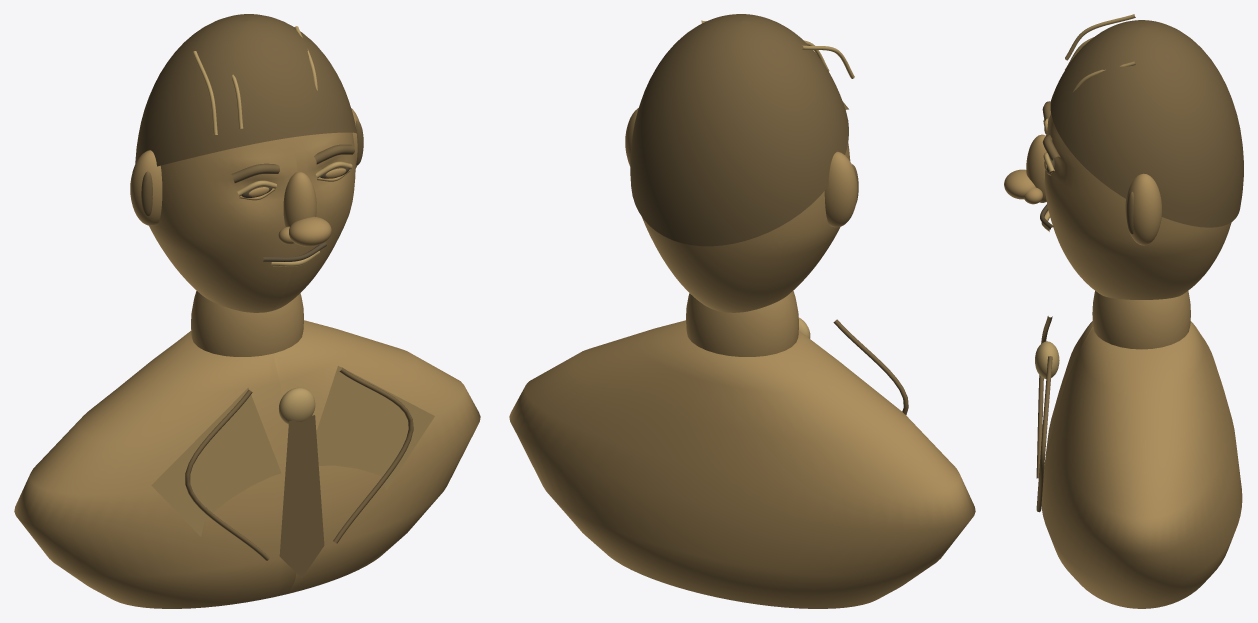
File: goulart.glb
The picture shows the model from 3 angles, left to right: view 1: azimuth 30°, elevation 25°; view 2: azimuth 150°, elevation 25°; view 3: azimuth 270°, elevation 25°; orthographic projection. The views are drawn at different scales.
Parts seen in each view (by area): view 1: goulart; view 2: goulart; view 3: goulart.
Boxes of the visible parts, box(x1,y1,x2,y2) form: goulart: box(14, 14, 480, 608); goulart: box(509, 14, 975, 608); goulart: box(1004, 14, 1243, 608).
Bounding box in the file's own units: 1.22 × 1.39 × 0.5837.
